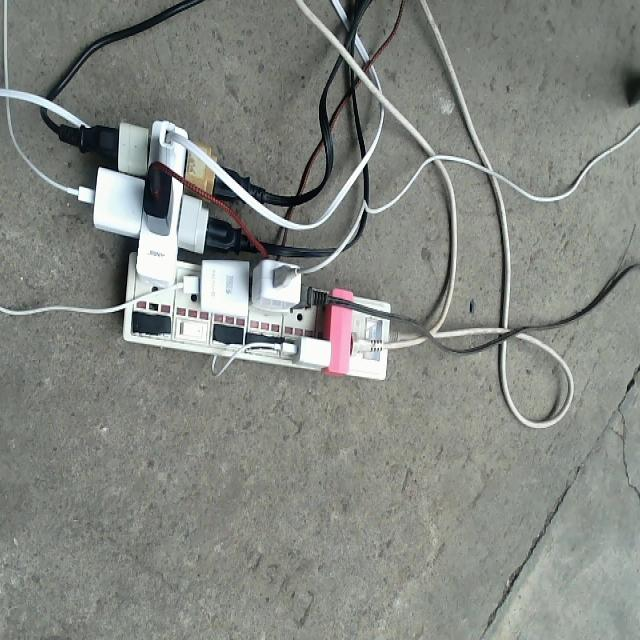-: (69, 113, 394, 383)
